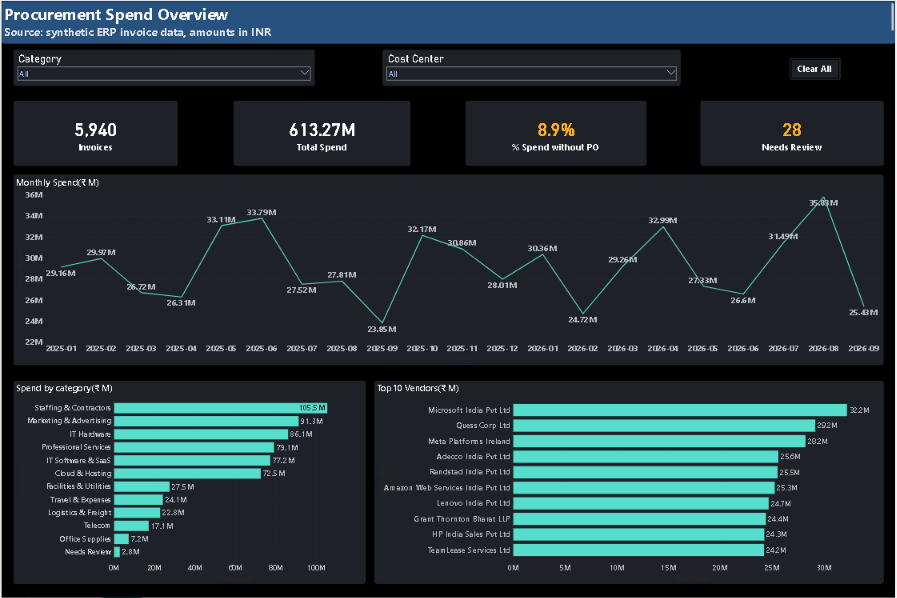

What the dashboard file says about the page in this screenshot:
{"tool":"powerbi","page":{"name":"Page 1","canvas":[3000,2000],"ordinal":0},"visuals":[{"type":"card","fields":{"Values":["clean_spend.Total Spend"]},"box":[777.5,335.1,593.2,217.8],"z":0},{"type":"card","fields":{"Values":["clean_spend.Invoices"]},"box":[40.2,335.1,549.6,217.8],"z":1000},{"type":"card","fields":{"Values":["clean_spend.% No PO"]},"box":[1555,335.1,606.6,217.8],"z":2000},{"type":"card","fields":{"Values":["clean_spend.Needs Review"]},"box":[2342.5,335.1,613.3,217.8],"z":3000},{"type":"lineChart","title":"Monthly Spend(₹ M)","fields":{"Category":["clean_spend.Month"],"Y":["clean_spend.Total Spend"]},"box":[40.2,583.1,2915.6,636.7],"z":4000},{"type":"clusteredBarChart","title":"Spend by category(₹ M)","fields":{"Category":["clean_spend.category"],"Y":["clean_spend.Total Spend"]},"box":[40.2,1273.5,1179.6,680.3],"z":5000},{"type":"clusteredBarChart","title":"Top 10 Vendors(₹ M)","fields":{"Category":["clean_spend.vendor_clean"],"Y":["clean_spend.Total Spend"]},"box":[1250,1273.5,1705.8,680.3],"z":6000},{"type":"slicer","fields":{"Values":["clean_spend.cost_center"]},"box":[1276.8,164.2,998.7,120.6],"z":7000},{"type":"slicer","fields":{"Values":["clean_spend.category"]},"box":[40.2,164.2,1008.7,120.6],"z":8000},{"type":"textbox","box":[0,0,2999.3,144.1],"z":9000},{"type":"actionButton","box":[2640.8,191,170.9,73.7],"z":10000}]}

Visuals, with their boxes in screenshot pixels (x1, y1, x2, y2), scaled from the page's 3000x2000 canvas onto the 897x598 screenshot:
card - clean_spend.Total Spend: 232/100/410/165
card - clean_spend.Invoices: 12/100/176/165
card - clean_spend.% No PO: 465/100/646/165
card - clean_spend.Needs Review: 700/100/884/165
"Monthly Spend(₹ M)" lineChart: 12/174/884/365
"Spend by category(₹ M)" clusteredBarChart: 12/381/365/584
"Top 10 Vendors(₹ M)" clusteredBarChart: 374/381/884/584
slicer - clean_spend.cost_center: 382/49/680/85
slicer - clean_spend.category: 12/49/314/85
textbox: 0/0/896/43
actionButton: 790/57/841/79
